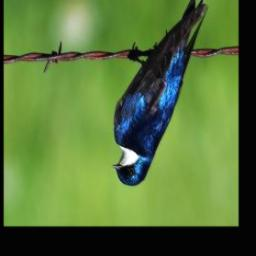Swallow: (112, 0, 209, 187)
